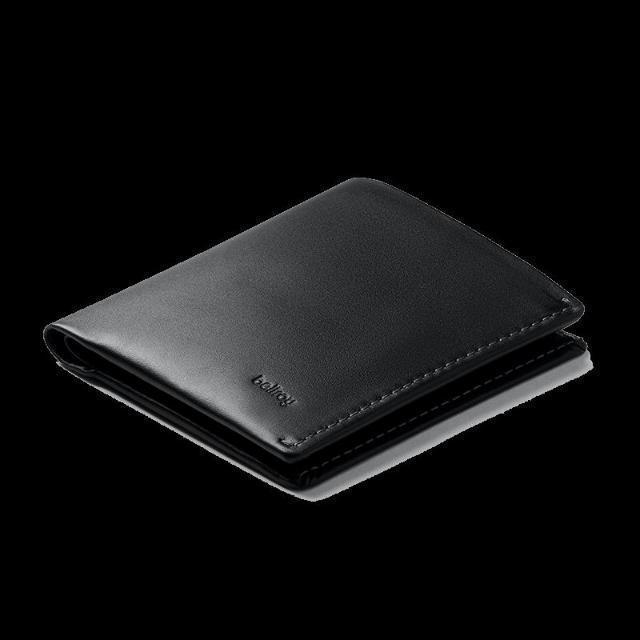wallet: (38, 171, 600, 509)
